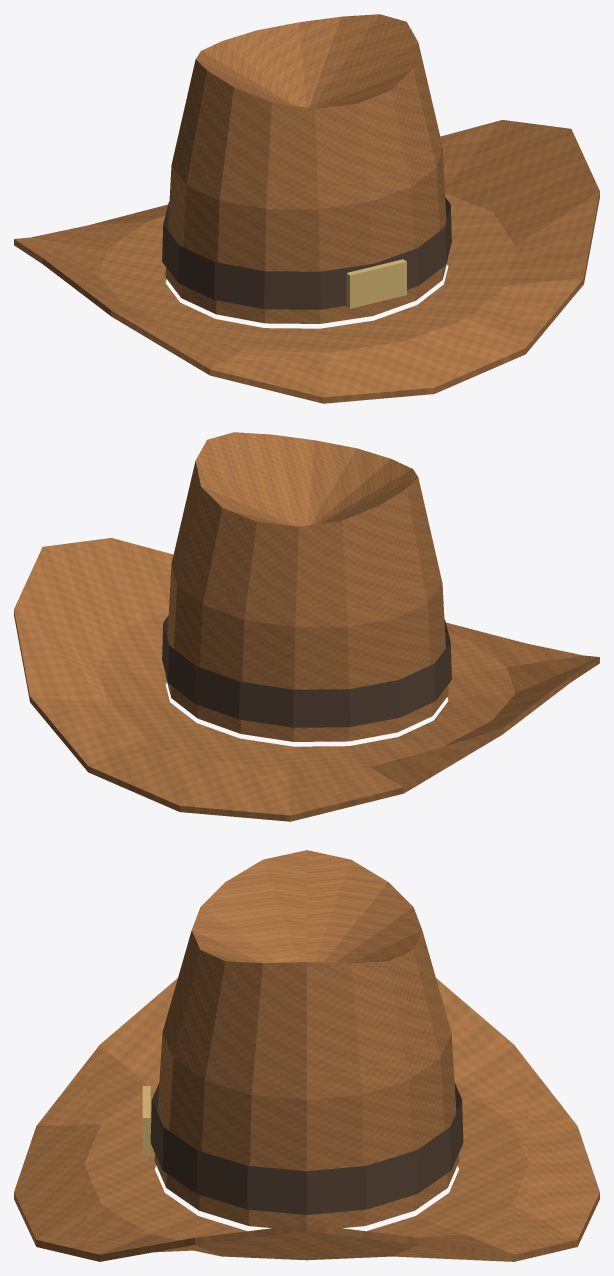
File: CowboyHat.fbx
The picture shows the model from 3 angles, top to bottom: view 1: azimuth 30°, elevation 25°; view 2: azimuth 150°, elevation 25°; view 3: azimuth 270°, elevation 25°; orthographic projection. The views are drawn at different scales.
Parts seen in each view (by area): view 1: Hat0_Crown, Hat0_Brim, Hat0_Band, Hat0_BrimEdge, Hat0_BrimUnderside, Hat0_Buckle; view 2: Hat0_Crown, Hat0_Brim, Hat0_Band, Hat0_BrimEdge, Hat0_BrimUnderside; view 3: Hat0_Crown, Hat0_Brim, Hat0_Band, Hat0_BrimUnderside, Hat0_BrimEdge, Hat0_Buckle.
Boxes of the visible parts, box(x1,y1,x2,y2) form: Hat0_Crown: box(165, 14, 448, 323); Hat0_Brim: box(14, 120, 599, 397); Hat0_Band: box(162, 197, 451, 309); Hat0_BrimEdge: box(14, 192, 599, 403); Hat0_BrimUnderside: box(39, 197, 575, 326); Hat0_Buckle: box(346, 259, 406, 308); Hat0_Crown: box(165, 432, 448, 741); Hat0_Brim: box(14, 538, 599, 815); Hat0_Band: box(162, 615, 451, 727); Hat0_BrimEdge: box(14, 610, 599, 821); Hat0_BrimUnderside: box(111, 561, 500, 798); Hat0_Crown: box(154, 850, 459, 1228); Hat0_Brim: box(14, 978, 599, 1254); Hat0_Band: box(150, 1083, 463, 1214); Hat0_BrimUnderside: box(75, 1017, 538, 1261); Hat0_BrimEdge: box(14, 1192, 599, 1261); Hat0_Buckle: box(142, 1086, 150, 1156).
Size of the model in its own units: 53 by 24.4 by 44.2.
3 materials, 1 textured.
